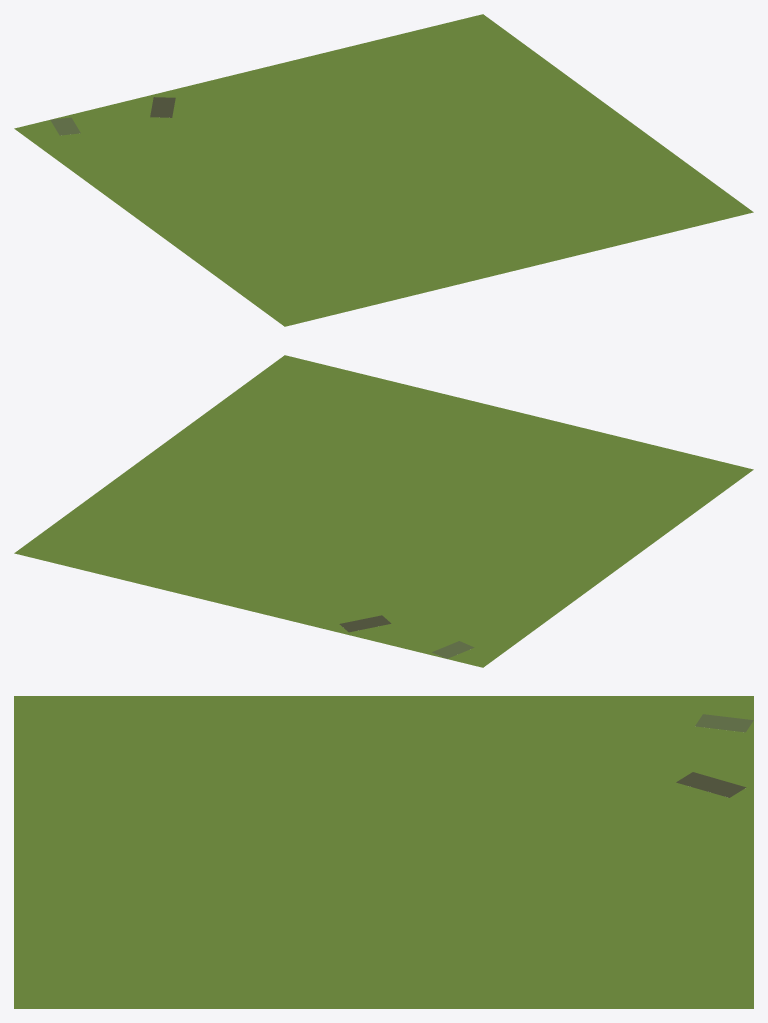
File: cure-5-3.glb
3 views of the same model, one above another, from view 1: azimuth 30°, elevation 25°; view 2: azimuth 150°, elevation 25°; view 3: azimuth 270°, elevation 25° (orthographic). The views are drawn at different scales.
Parts seen in each view (by area): view 1: cure-5-3; view 2: cure-5-3; view 3: cure-5-3.
Boxes of the visible parts, x1,y1,x2,y2 form: cure-5-3: [14, 14, 753, 326]; cure-5-3: [14, 355, 753, 667]; cure-5-3: [14, 696, 753, 1008].
Bounding box in the file's own units: 100 × 0.003 × 100.
